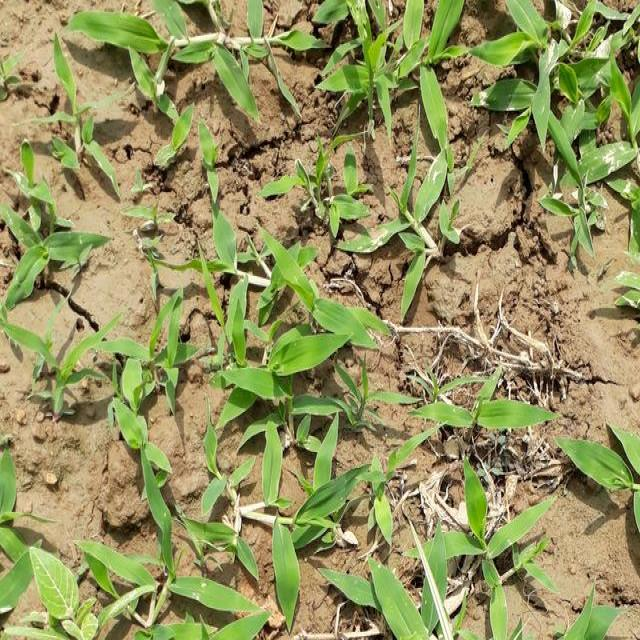weed: (46, 7, 640, 277), (26, 289, 393, 640)
